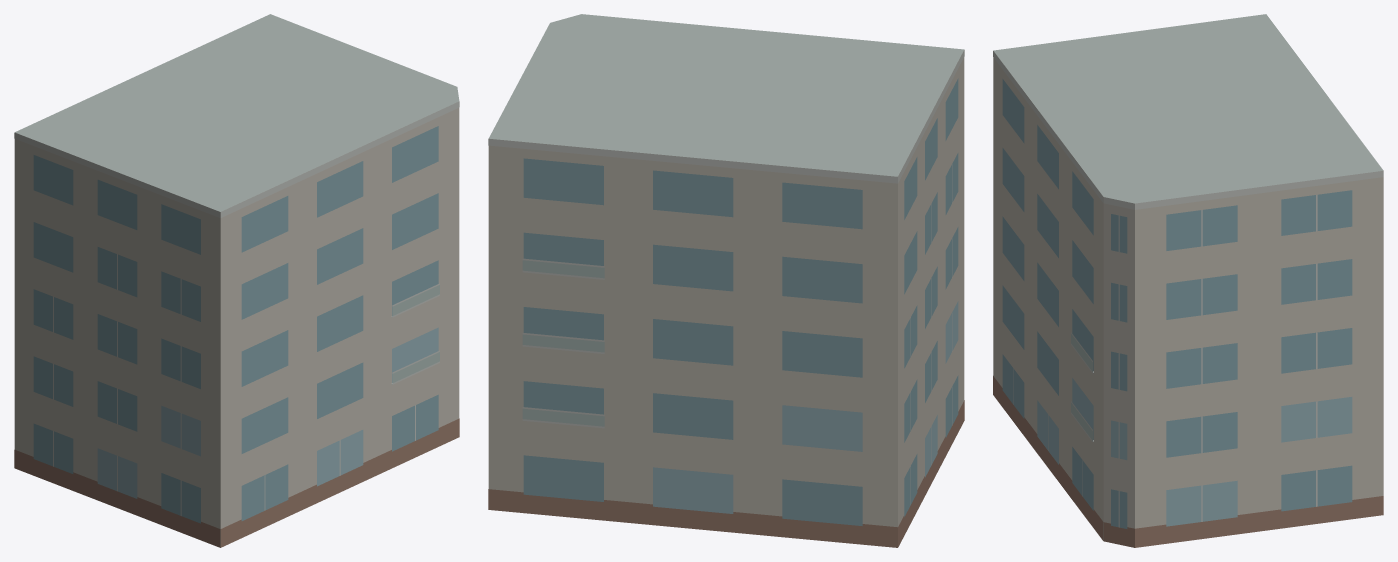
Rendered from survey-upis-33047046.glb.
3 views of the same model, side by side, from view 1: azimuth 30°, elevation 25°; view 2: azimuth 150°, elevation 25°; view 3: azimuth 270°, elevation 25° (orthographic). The views are drawn at different scales.
Visible parts, largest first — view 1: survey-upis-33047046.tmp; view 2: survey-upis-33047046.tmp; view 3: survey-upis-33047046.tmp.
Boxes of the visible parts, x1,y1,x2,y2 form: survey-upis-33047046.tmp: (14,14,459,547); survey-upis-33047046.tmp: (488,14,964,547); survey-upis-33047046.tmp: (993,14,1383,547).
Size of the model in its own units: 15.59 by 13.2 by 13.58.
